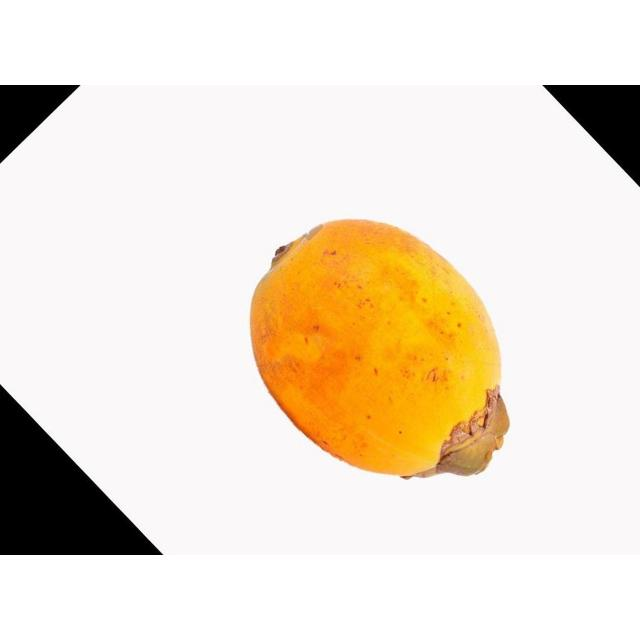good: (248, 219, 511, 481)
